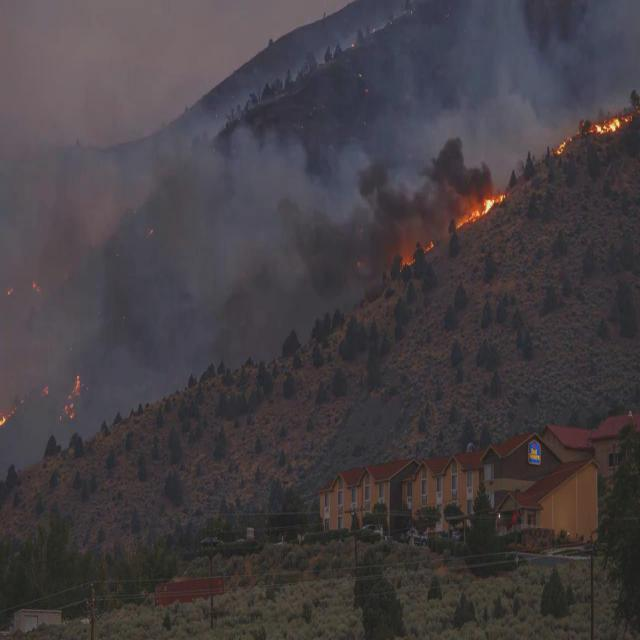Fire: (456, 192, 506, 228), (592, 116, 618, 132), (548, 136, 568, 156), (400, 256, 415, 267), (424, 239, 434, 253)
